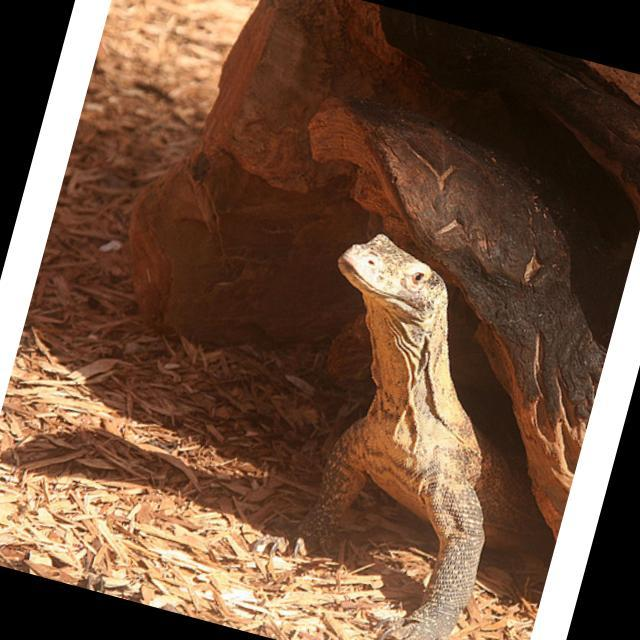KomodoDragon: (234, 219, 557, 640)
